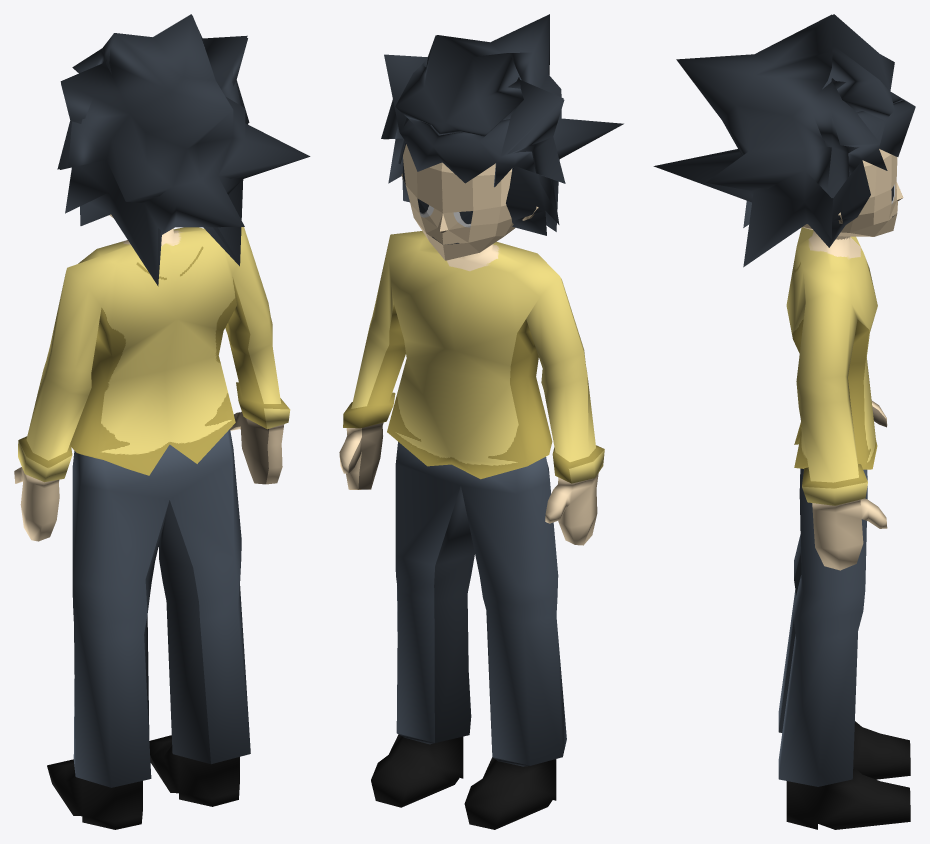
File: M SPIKEY.glb
3 renders of one model, left to right at view 1: azimuth 30°, elevation 25°; view 2: azimuth 150°, elevation 25°; view 3: azimuth 270°, elevation 25°, orthographic. The views are drawn at different scales.
Visible parts, largest first — view 1: MEN OFFICE, SPIKEY; view 2: MEN OFFICE, SPIKEY, MAN HEAD; view 3: MEN OFFICE, SPIKEY, MAN HEAD.
Part boxes in pixels (x1=…): MEN OFFICE: x1=14, y1=227, x2=290, y2=829; SPIKEY: x1=57, y1=14, x2=310, y2=286; MEN OFFICE: x1=339, y1=231, x2=604, y2=829; SPIKEY: x1=381, y1=14, x2=623, y2=235; MAN HEAD: x1=403, y1=144, x2=515, y2=260; MEN OFFICE: x1=778, y1=227, x2=910, y2=829; SPIKEY: x1=653, y1=14, x2=915, y2=267; MAN HEAD: x1=802, y1=149, x2=903, y2=236.
Size of the model in its own units: 3.32 by 9.62 by 3.01.
4 materials, 4 textured.
